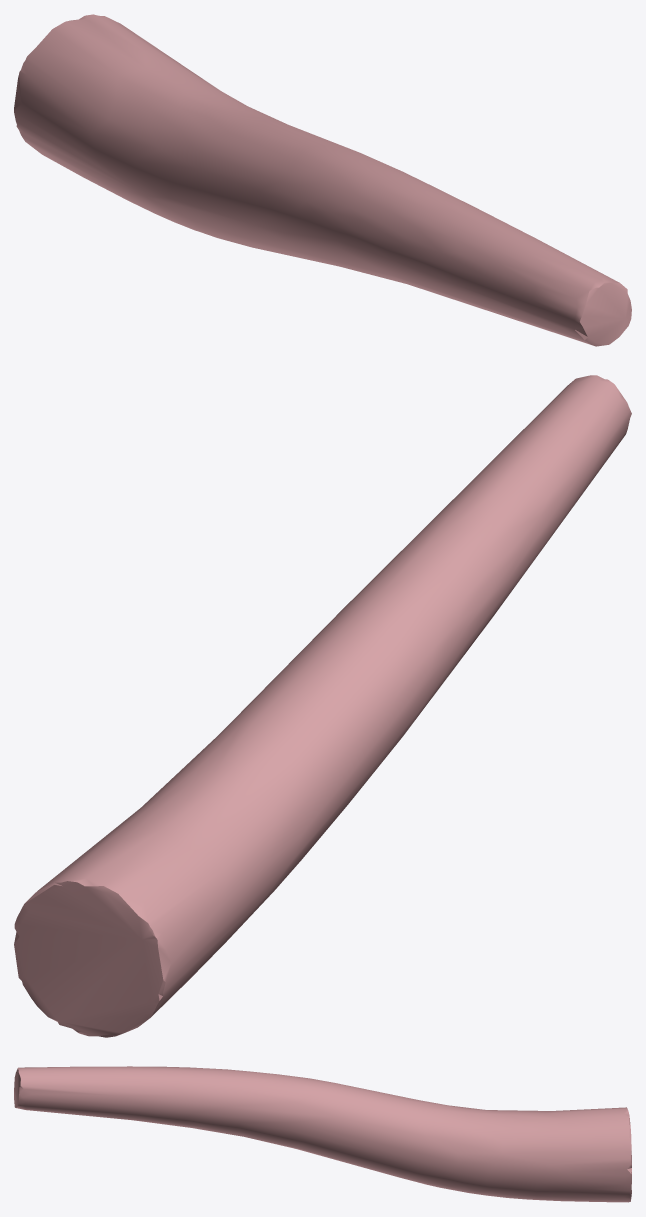
The model's file is fma68211_fj6550.glb.
The picture shows the model from 3 angles, top to bottom: view 1: azimuth 30°, elevation 25°; view 2: azimuth 150°, elevation 25°; view 3: azimuth 270°, elevation 25°; orthographic projection. The views are drawn at different scales.
Visible parts, largest first — view 1: FMA68211_FJ6550; view 2: FMA68211_FJ6550; view 3: FMA68211_FJ6550.
Boxes of the visible parts, x1,y1,x2,y2 form: FMA68211_FJ6550: [14, 14, 631, 346]; FMA68211_FJ6550: [14, 375, 631, 1037]; FMA68211_FJ6550: [14, 1066, 631, 1202].
Bounding box in the file's own units: 0.00459 × 0.00727 × 0.0292.
